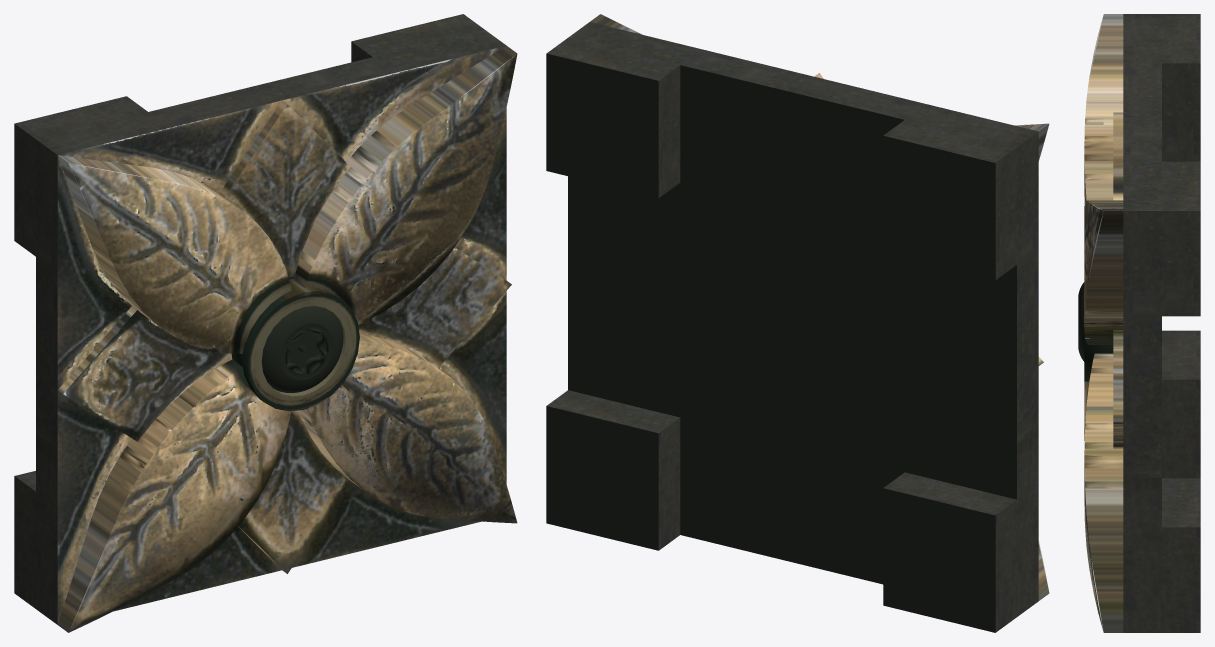
File: rosette.glb
The picture shows the model from 3 angles, left to right: view 1: azimuth 30°, elevation 25°; view 2: azimuth 150°, elevation 25°; view 3: azimuth 270°, elevation 25°; orthographic projection. The views are drawn at different scales.
Visible parts, largest first — view 1: ROSETTE_CARRE#2, ROSETTE_CARRE#4, G-__555600, G-__555618, Group#9, G-__555609, G-__555582, Torx T27 Screw Head (Button)#1; view 2: ROSETTE_CARRE#2; view 3: ROSETTE_CARRE#2, G-__555609, Group#9, G-__555618, ROSETTE_CARRE#4, G-__555582, Torx T27 Screw Head (Button)#1.
Boxes of the visible parts, x1,y1,x2,y2 form: ROSETTE_CARRE#2: [14, 14, 506, 624]; ROSETTE_CARRE#4: [58, 100, 511, 573]; G-__555600: [58, 359, 290, 632]; G-__555618: [294, 45, 517, 324]; Group#9: [58, 155, 291, 353]; G-__555609: [298, 334, 517, 523]; G-__555582: [231, 280, 359, 411]; Torx T27 Screw Head (Button)#1: [261, 306, 343, 392]; ROSETTE_CARRE#2: [546, 22, 1038, 632]; ROSETTE_CARRE#2: [1123, 14, 1200, 632]; G-__555609: [1084, 353, 1123, 632]; Group#9: [1084, 14, 1123, 202]; G-__555618: [1084, 200, 1123, 344]; ROSETTE_CARRE#4: [1113, 112, 1123, 448]; G-__555582: [1084, 329, 1113, 381]; Torx T27 Screw Head (Button)#1: [1078, 282, 1084, 361].
Bounding box in the file's own units: 0.0381 × 0.0381 × 0.01.
4 materials, 2 textured.
